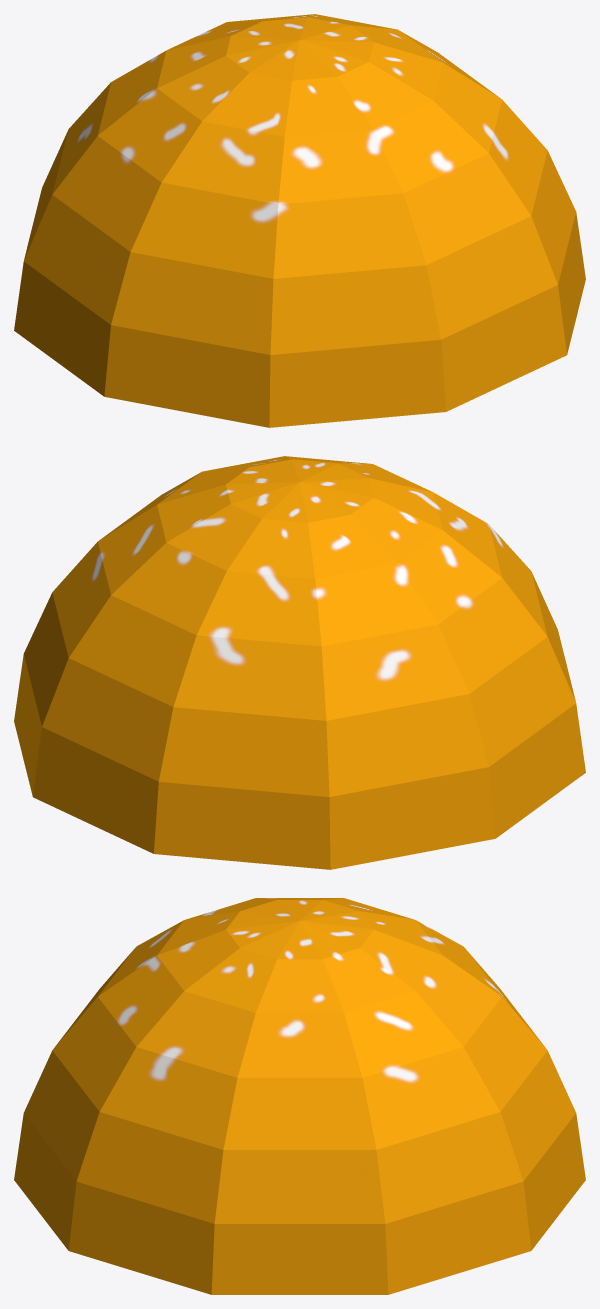
File: oar_top_bun.glb
The picture shows the model from 3 angles, top to bottom: view 1: azimuth 30°, elevation 25°; view 2: azimuth 150°, elevation 25°; view 3: azimuth 270°, elevation 25°; orthographic projection. The views are drawn at different scales.
Parts seen in each view (by area): view 1: Sphere; view 2: Sphere; view 3: Sphere.
Boxes of the visible parts, x1,y1,x2,y2 form: Sphere: (14, 14, 585, 427); Sphere: (14, 456, 585, 869); Sphere: (14, 898, 585, 1294).
Bounding box in the file's own units: 1.9 × 1 × 2.
1 material, 1 textured.
